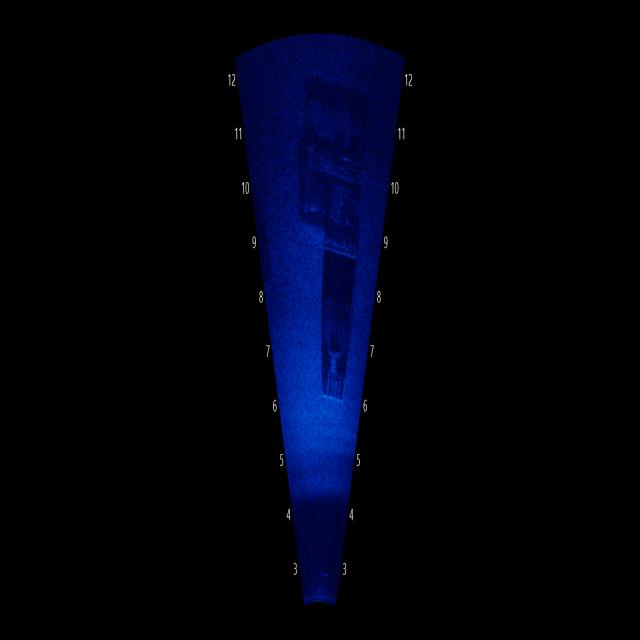square: (286, 76, 374, 261), (307, 265, 361, 421)
